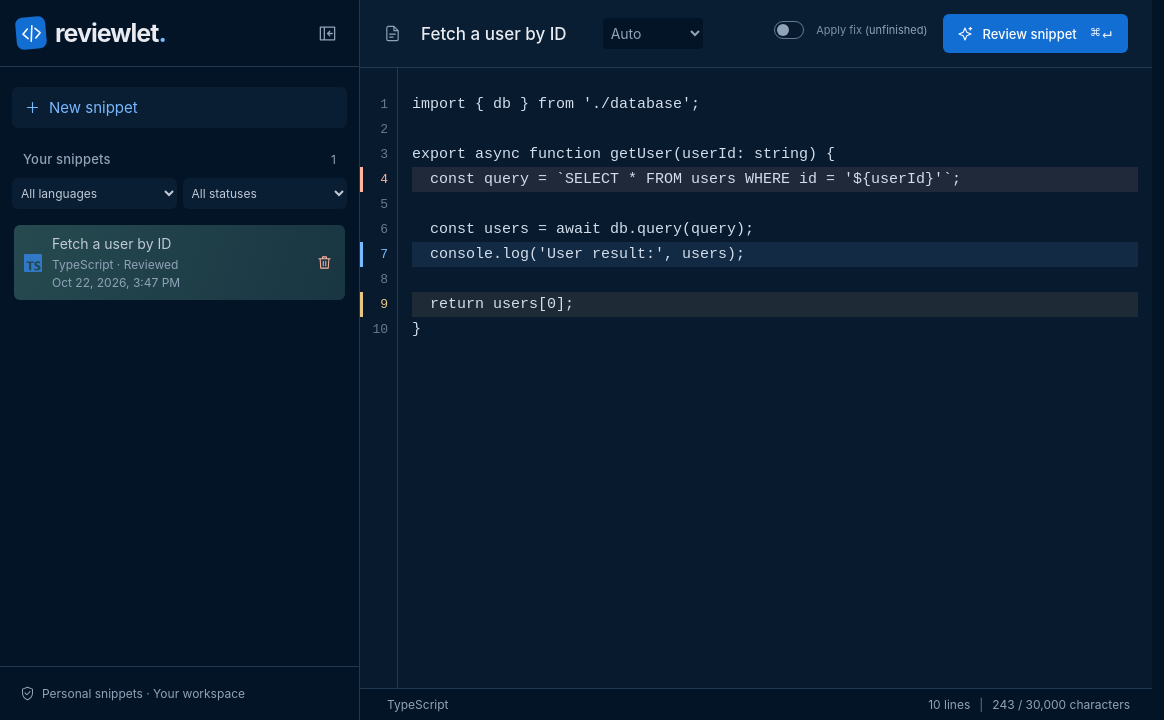
snippet editor workspace › creates an empty snippet and preserves changes when switching snippets
Check: the button "Fetch a user by ID" is shown, box [14,225,345,300]
Click the button "New snippet" at (93, 108), box [12,87,347,128]
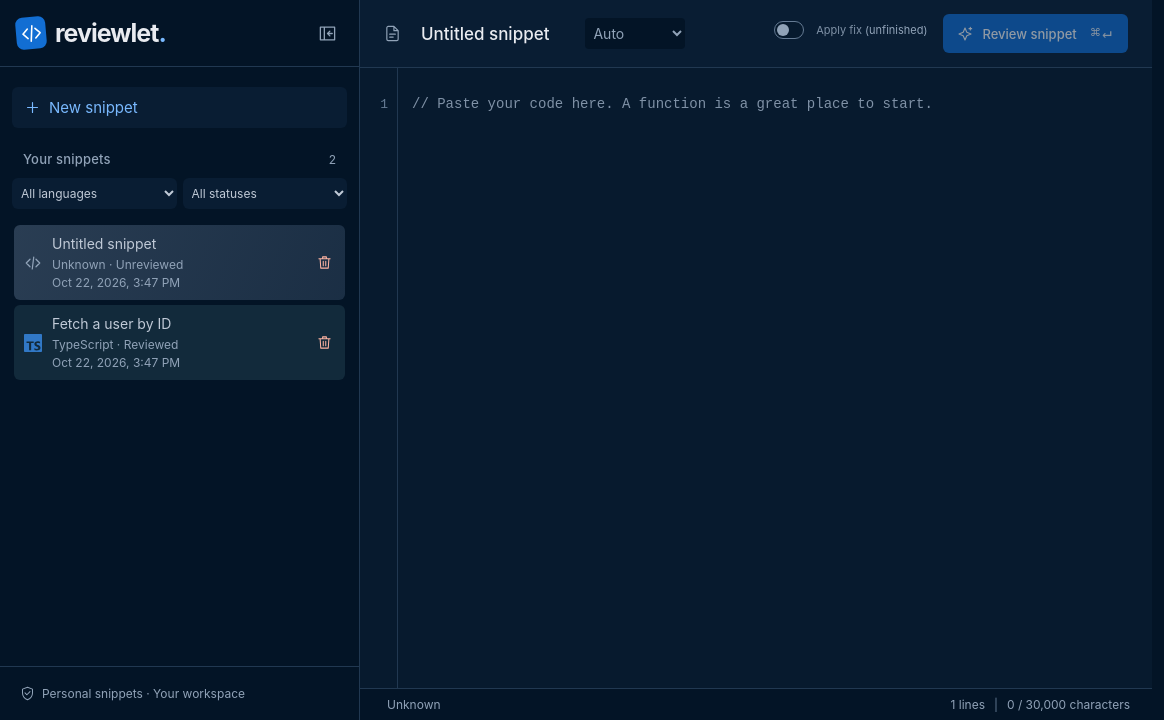
Check: the text box named "Code snippet" is empty, box [398,68,1152,688]
Type "Calculator helper" into the field named "Snippet name" at (493, 34), box [413,16,574,50]
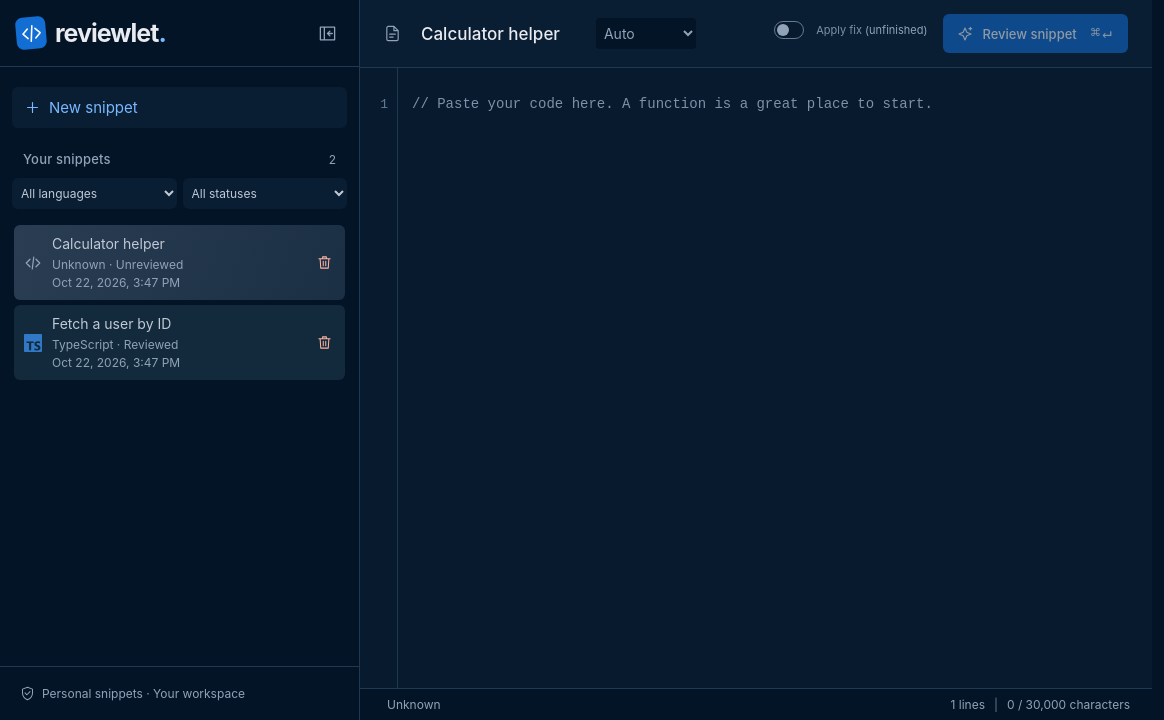
Type "const result = 1 + 2;" into the text box named "Code snippet" at (775, 378), box [398,68,1152,688]
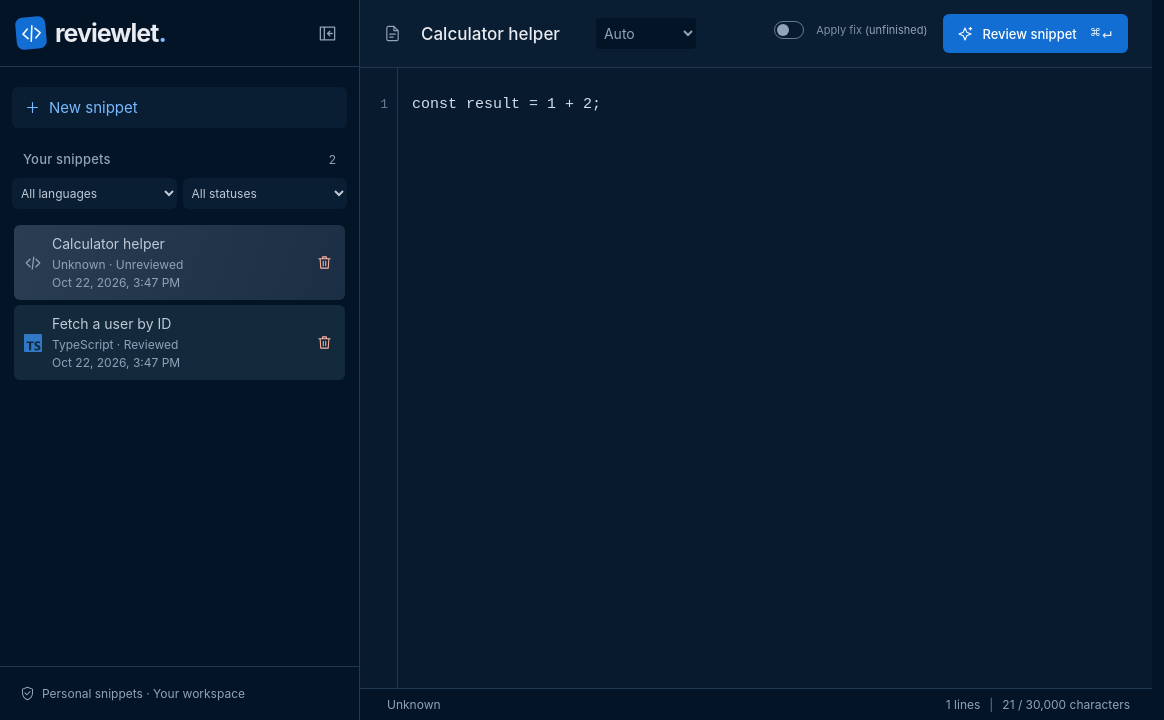
Click the button "Fetch a user by ID" at (180, 342), box [14,305,345,380]
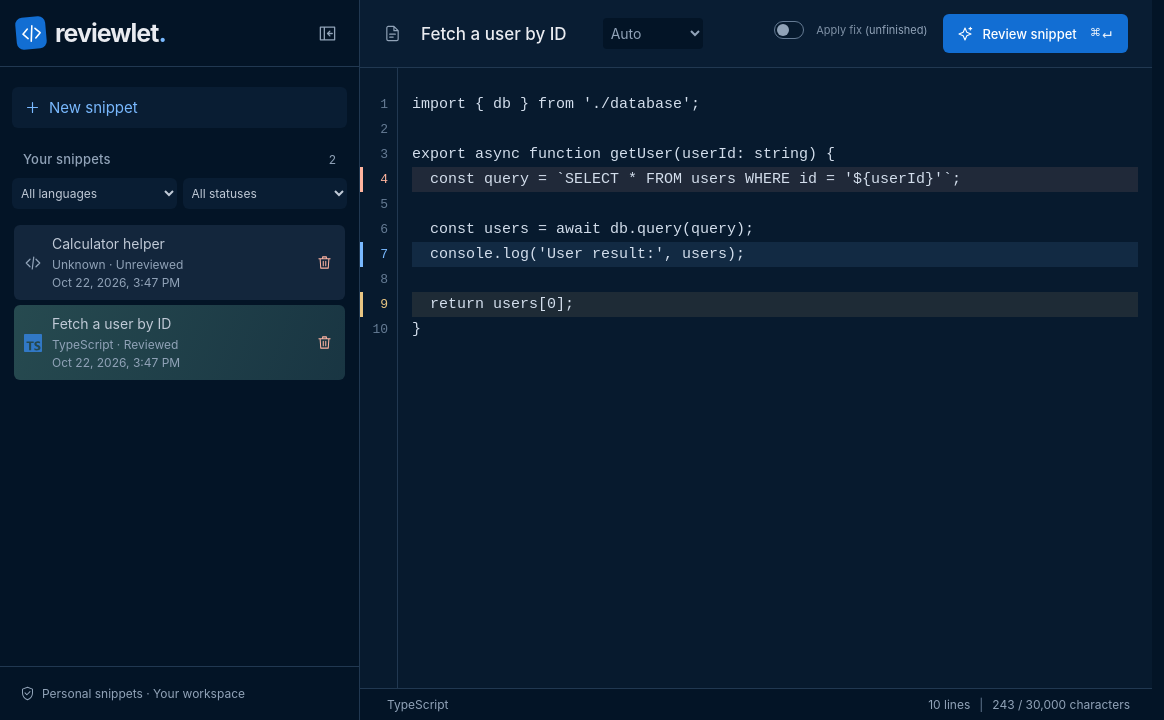
Check: the field named "Snippet name" holds "Fetch a user by ID", box [413,16,591,50]
Click the button "Calculator helper" at (180, 262), box [14,225,345,300]
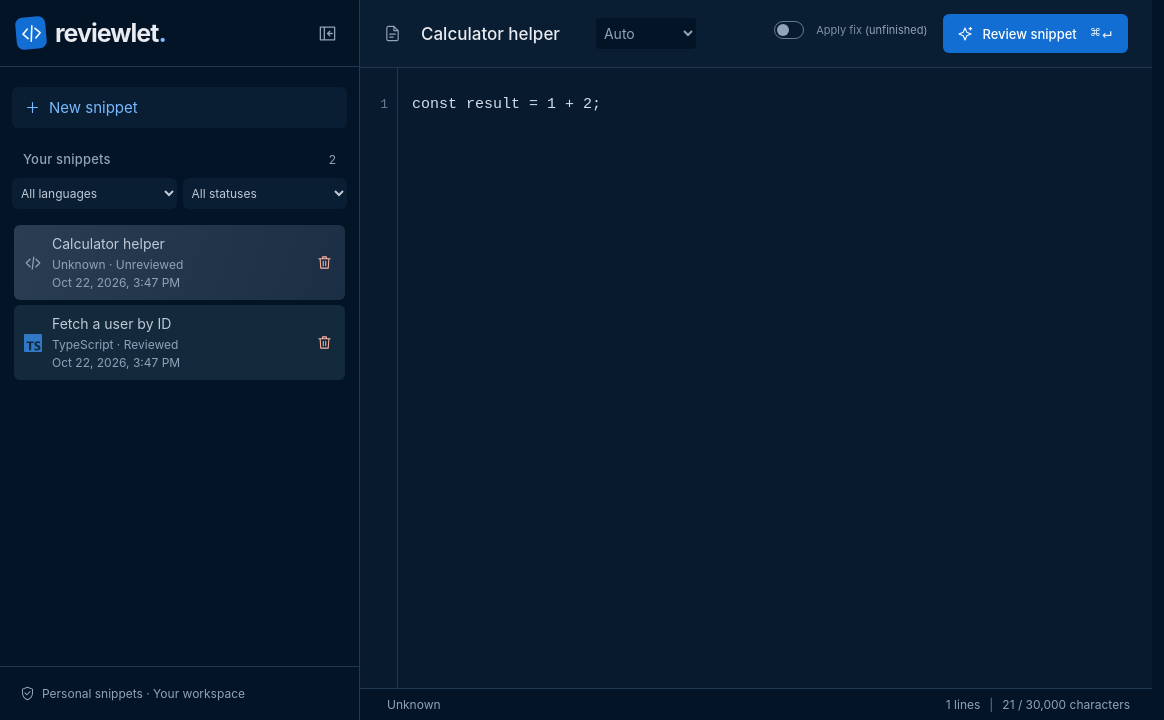
Check: the text "const result = 1 + 2;" is shown, box [412,96,601,113]
